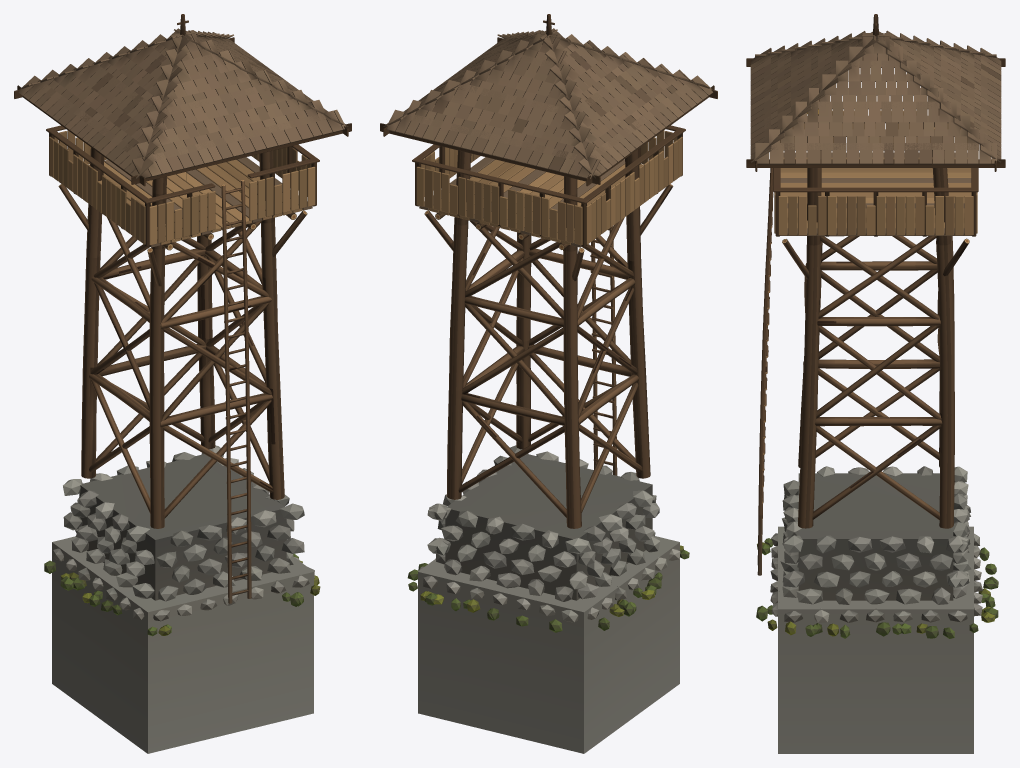
The model's file is kule.glb.
The picture shows the model from 3 angles, left to right: view 1: azimuth 30°, elevation 25°; view 2: azimuth 150°, elevation 25°; view 3: azimuth 270°, elevation 25°; orthographic projection. The views are drawn at different scales.
Visible parts, largest first — view 1: stone-plinth-001, stone-006, shingle-001, shingle-004, plank-002, wood-002, plank-001, plank-004, log-001, log-003, log-002, log-005 (+18 smaller); view 2: stone-plinth-001, stone-006, shingle-003, shingle-004, plank-003, log-002, log-004, plank-004, log-001, plank-001, log-007, log-011 (+19 smaller); view 3: stone-plinth-001, stone-006, shingle-002, plank-005, shingle-001, shingle-003, plank-001, log-003, log-004, log-006, log-010, stone-found-005 (+11 smaller).
Boxes of the visible parts, x1=… form: stone-plinth-001: x1=52, y1=536, x2=313, y2=753; stone-006: x1=63, y1=445, x2=304, y2=601; shingle-001: x1=132, y1=30, x2=345, y2=179; shingle-004: x1=18, y1=28, x2=191, y2=178; plank-002: x1=145, y1=158, x2=317, y2=245; wood-002: x1=221, y1=180, x2=251, y2=603; plank-001: x1=88, y1=157, x2=312, y2=247; plank-004: x1=46, y1=127, x2=151, y2=244; log-001: x1=149, y1=176, x2=166, y2=528; log-003: x1=259, y1=150, x2=284, y2=499; log-002: x1=81, y1=147, x2=104, y2=478; log-005: x1=160, y1=393, x2=273, y2=518; stone-plinth-001: x1=418, y1=536, x2=679, y2=753; stone-006: x1=427, y1=445, x2=660, y2=601; shingle-003: x1=387, y1=30, x2=600, y2=179; shingle-004: x1=540, y1=28, x2=713, y2=178; plank-003: x1=412, y1=157, x2=588, y2=245; log-002: x1=563, y1=176, x2=581, y2=528; log-004: x1=446, y1=150, x2=471, y2=499; plank-004: x1=580, y1=128, x2=685, y2=244; log-001: x1=625, y1=149, x2=650, y2=478; plank-001: x1=419, y1=157, x2=643, y2=247; log-007: x1=458, y1=393, x2=566, y2=517; log-011: x1=462, y1=296, x2=564, y2=417; stone-plinth-001: x1=778, y1=526, x2=973, y2=753; stone-006: x1=780, y1=466, x2=971, y2=604; shingle-002: x1=755, y1=33, x2=996, y2=164; plank-005: x1=773, y1=187, x2=977, y2=235; shingle-001: x1=750, y1=29, x2=878, y2=162; shingle-003: x1=873, y1=29, x2=1001, y2=162; plank-001: x1=780, y1=152, x2=971, y2=235; log-003: x1=798, y1=128, x2=821, y2=528; log-004: x1=932, y1=127, x2=954, y2=528; log-006: x1=812, y1=417, x2=942, y2=520; log-010: x1=816, y1=317, x2=941, y2=419; stone-found-005: x1=784, y1=608, x2=978, y2=638.
Bounding box in the file's own units: 5.7 × 16.9 × 5.7.
